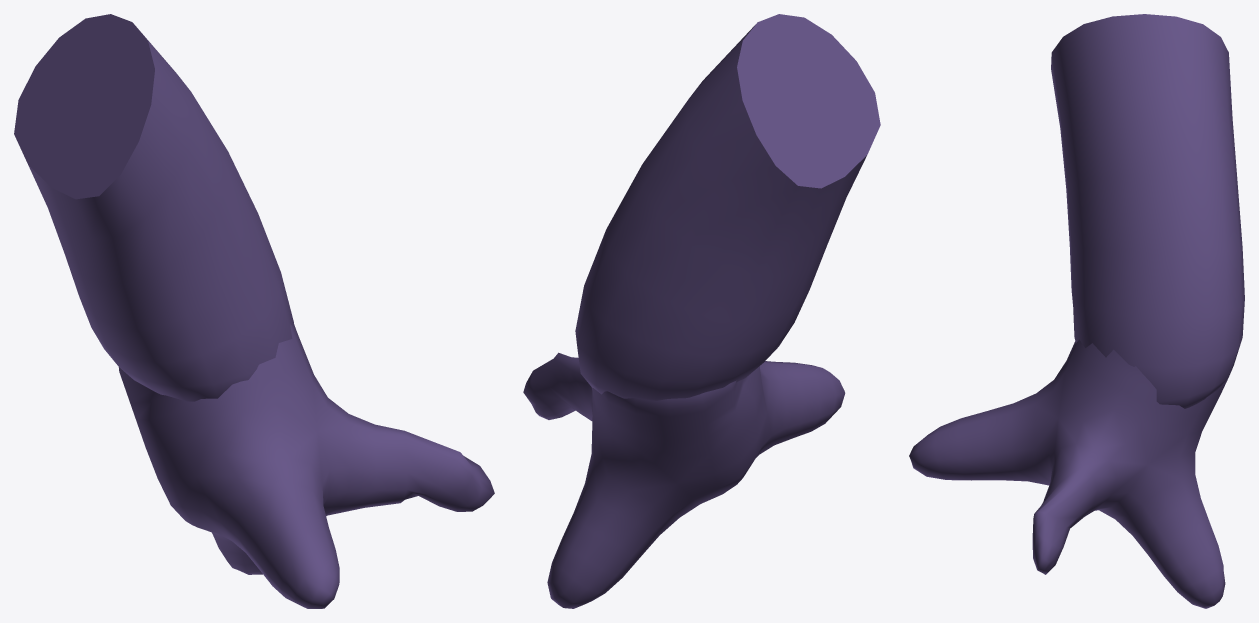
The model's file is PurpleLeftArm.fbx.
3 renders of one model, left to right at view 1: azimuth 30°, elevation 25°; view 2: azimuth 150°, elevation 25°; view 3: azimuth 270°, elevation 25°, orthographic. The views are drawn at different scales.
Visible parts, largest first — view 1: polySurface16, polySurface2; view 2: polySurface16, polySurface2; view 3: polySurface16, polySurface2.
Boxes of the visible parts, bbox=[...] form: polySurface16: bbox=[14, 14, 293, 401]; polySurface2: bbox=[118, 324, 494, 608]; polySurface16: bbox=[575, 14, 880, 400]; polySurface2: bbox=[523, 352, 845, 608]; polySurface16: bbox=[1051, 14, 1244, 408]; polySurface2: bbox=[909, 339, 1227, 608].
Size of the model in its own units: 47.51 by 72.26 by 41.76.
